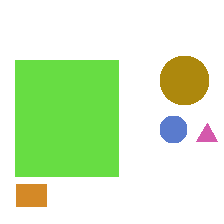circle: (160, 56, 208, 104), (160, 116, 186, 142)
rectangle: (15, 60, 118, 176), (16, 184, 46, 206)
triangle: (196, 123, 217, 141)
